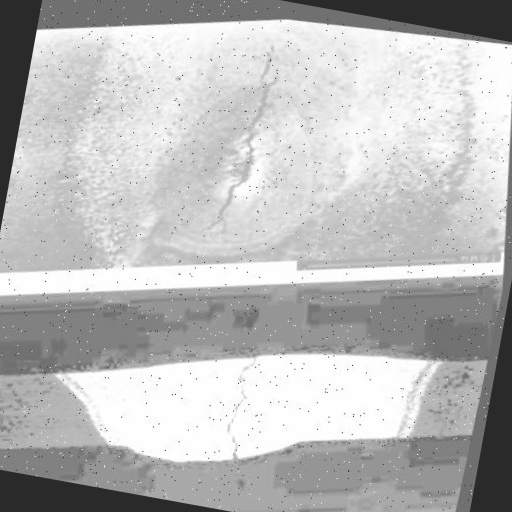crack: (156, 19, 319, 259), (199, 344, 277, 466)
